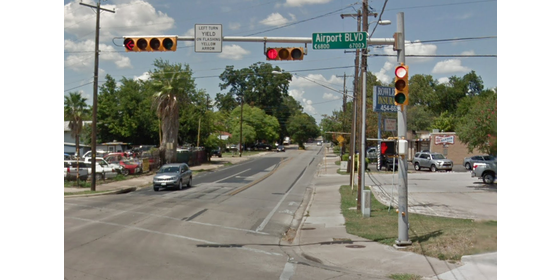left turn yield on flashing yellow arrow sign: (192, 23, 225, 54)
street name sign: (313, 32, 367, 51)
